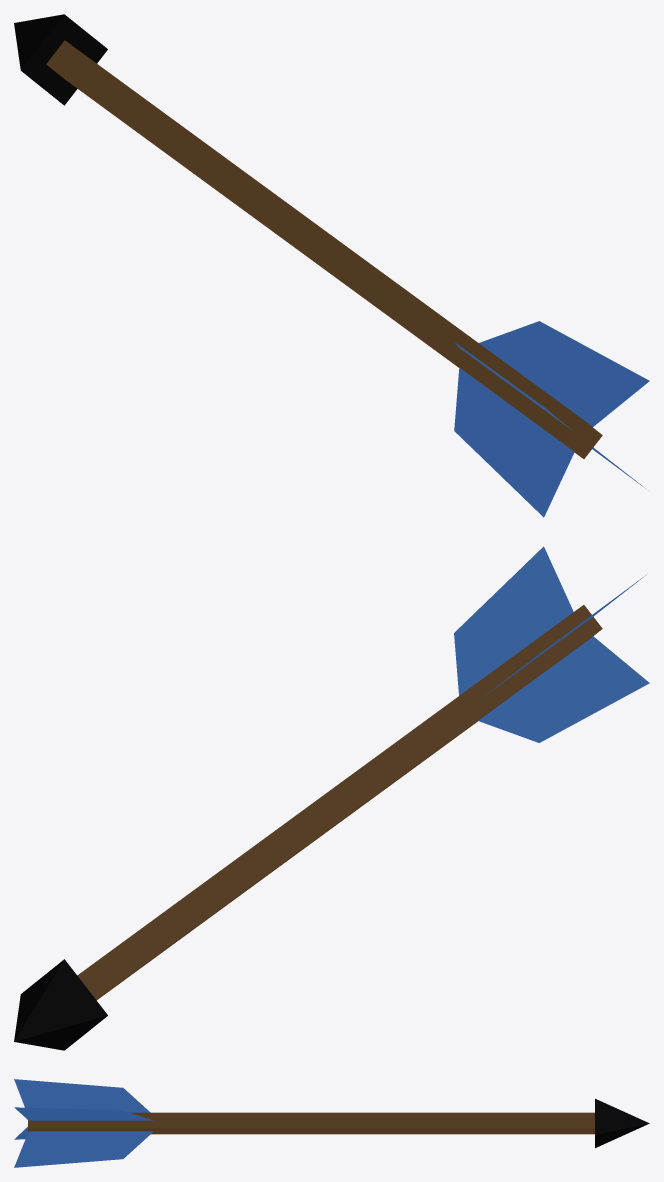
Rendered from arrow.fbx.
3 renders of one model, top to bottom at view 1: azimuth 30°, elevation 25°; view 2: azimuth 150°, elevation 25°; view 3: azimuth 270°, elevation 25°, orthographic. The views are drawn at different scales.
Visible parts, largest first — view 1: Cylinder, Polygon, Cone; view 2: Cylinder, Polygon, Cone; view 3: Cylinder, Polygon_1, Polygon, Cone.
Part boxes in pixels (x1,y1,x2,y2): Cylinder: [46, 40, 602, 458]; Polygon: [454, 321, 649, 517]; Cone: [14, 14, 107, 105]; Cylinder: [77, 605, 602, 1000]; Polygon: [454, 546, 649, 742]; Cone: [14, 959, 107, 1050]; Cylinder: [28, 1112, 594, 1134]; Polygon_1: [14, 1079, 153, 1167]; Polygon: [14, 1107, 153, 1139]; Cone: [595, 1098, 649, 1148].
Bounding box in the file's own units: 8.49 × 8.49 × 80.78.
